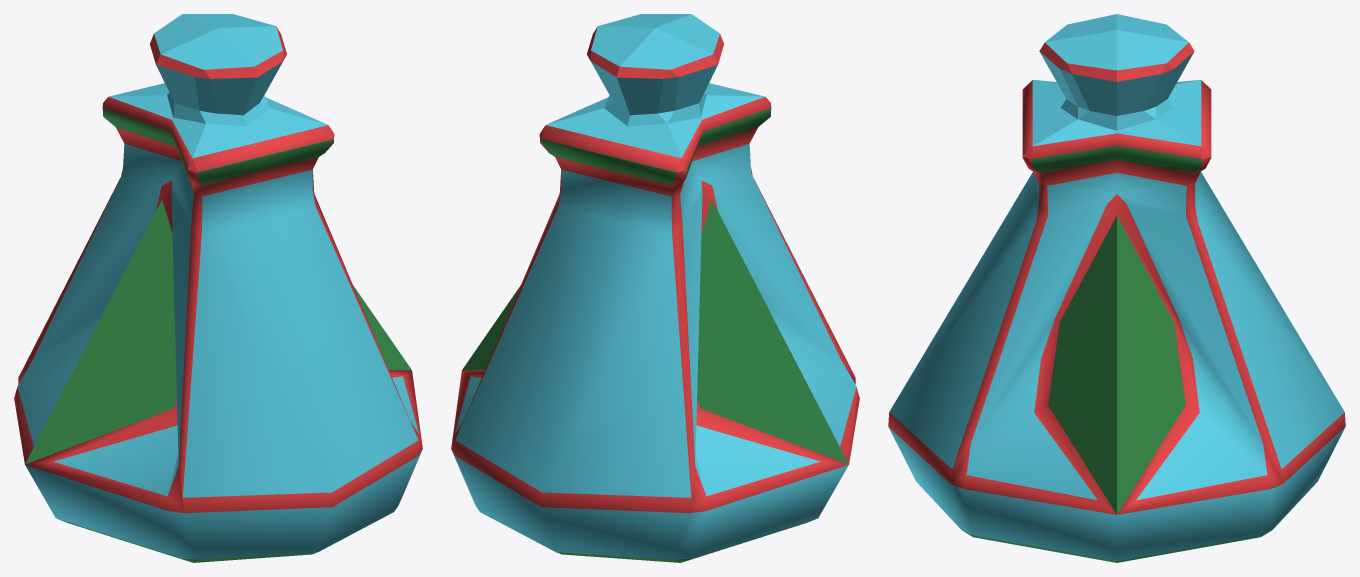
Rendered from Potion.fbx.
3 renders of one model, left to right at view 1: azimuth 30°, elevation 25°; view 2: azimuth 150°, elevation 25°; view 3: azimuth 270°, elevation 25°, orthographic.
Parts seen in each view (by area): view 1: Potion.002; view 2: Potion.002; view 3: Potion.002.
Boxes of the visible parts, box(x1,y1,x2,y2) form: Potion.002: box(14, 14, 422, 562); Potion.002: box(451, 14, 859, 562); Potion.002: box(888, 14, 1345, 562).
Size of the model in its own units: 318 by 360 by 324.
